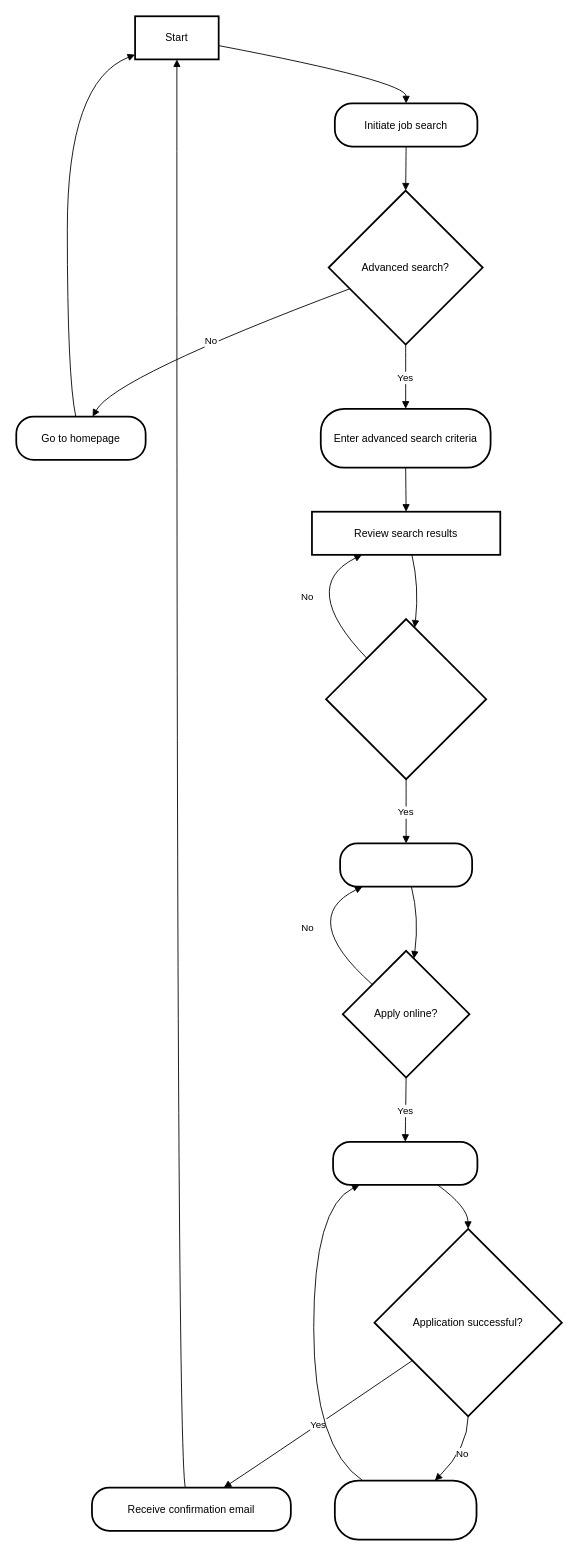
This 577x1555 diagram has some shape labels left out. The shapes that lost their labels are listed below. From the top down, each one's centre as x and y in pixels, then its label:
At (406,699): "Desired job found?".
At (406,864): "Click on job post".
At (405,1162): "Submit application".
At (405,1509): "Review and adjust application".
